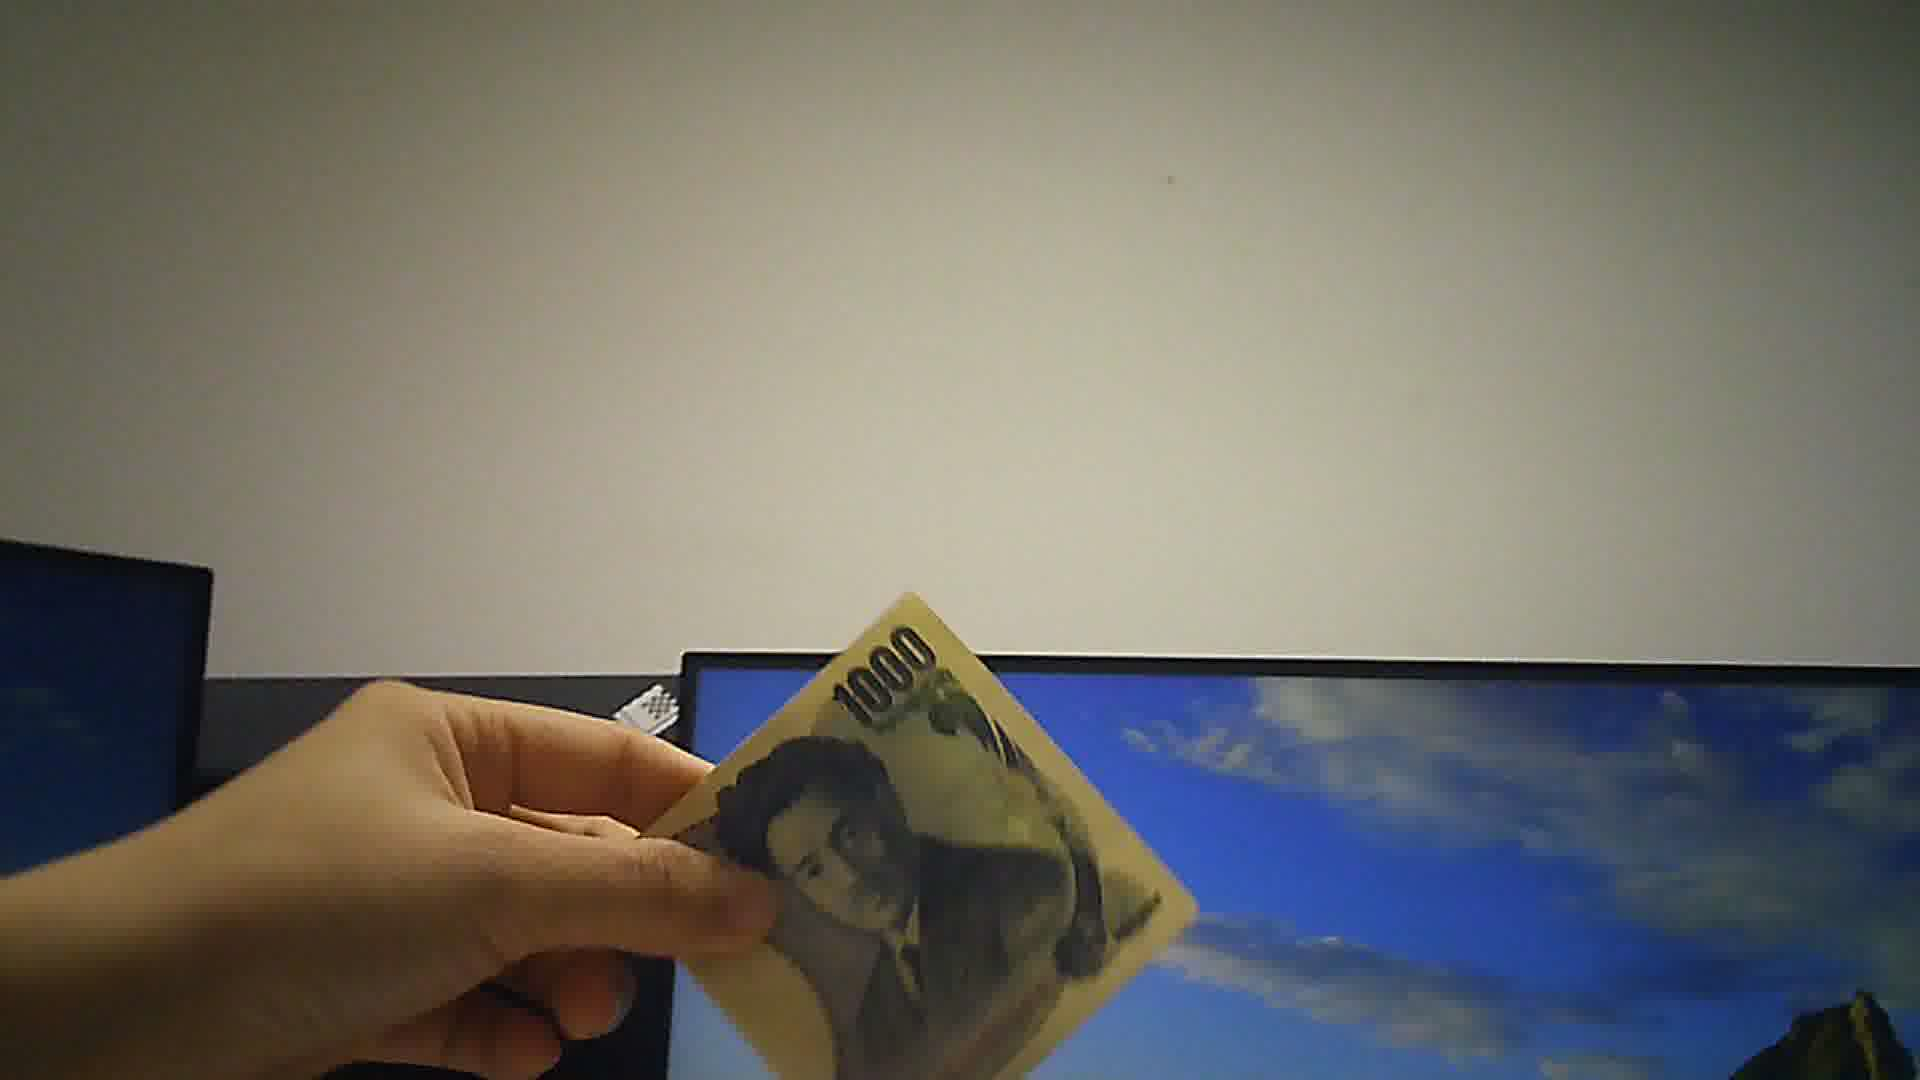1,000 Yen: (624, 592, 1192, 1077)
